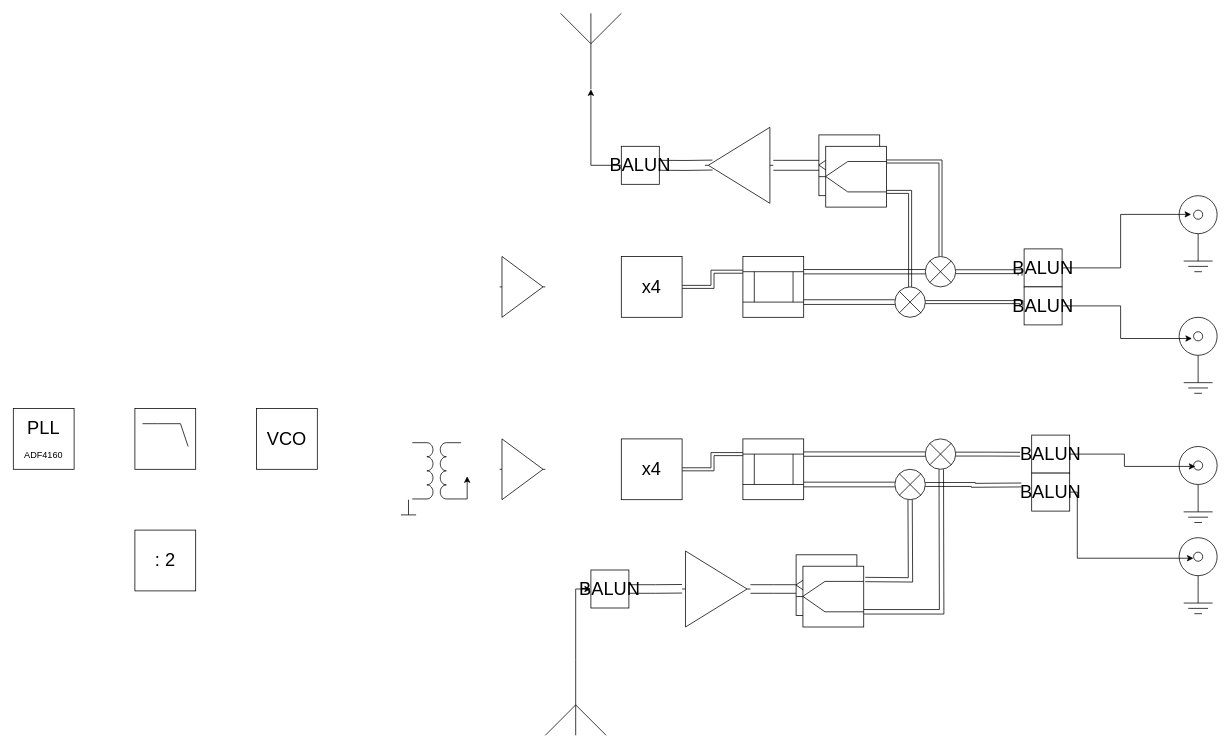
Image size: 1230x749. Some labels were removed from this diagram. The shapes that lost their labels are listed below. From the top down, each one's centre as x and y in pixels, then its label:
point 738,165: PA
point 165,438: Loopfilter
point 715,588: LNA
